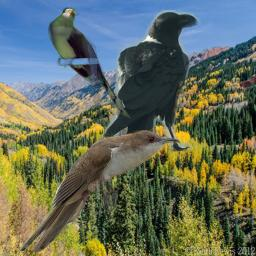Crow: (102, 10, 201, 152)
Cuckoo: (19, 130, 181, 252), (48, 7, 135, 119)
